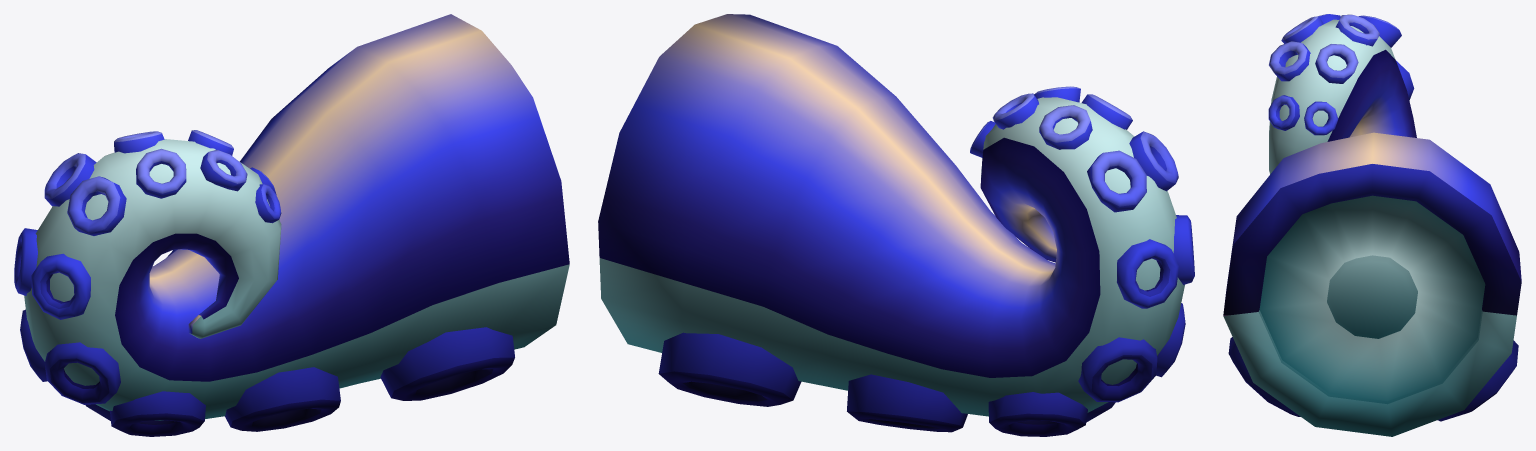
File: Tentacle_Blue.fbx
The picture shows the model from 3 angles, left to right: view 1: azimuth 30°, elevation 25°; view 2: azimuth 150°, elevation 25°; view 3: azimuth 270°, elevation 25°; orthographic projection. The views are drawn at different scales.
Parts seen in each view (by area): view 1: Tentacle_base blue; view 2: Tentacle_base blue; view 3: Tentacle_base blue.
Boxes of the visible parts, x1=… form: Tentacle_base blue: x1=14, y1=14, x2=569, y2=436; Tentacle_base blue: x1=598, y1=14, x2=1194, y2=436; Tentacle_base blue: x1=1223, y1=14, x2=1521, y2=436.
Size of the model in its own units: 3.35 by 2.21 by 2.07.
